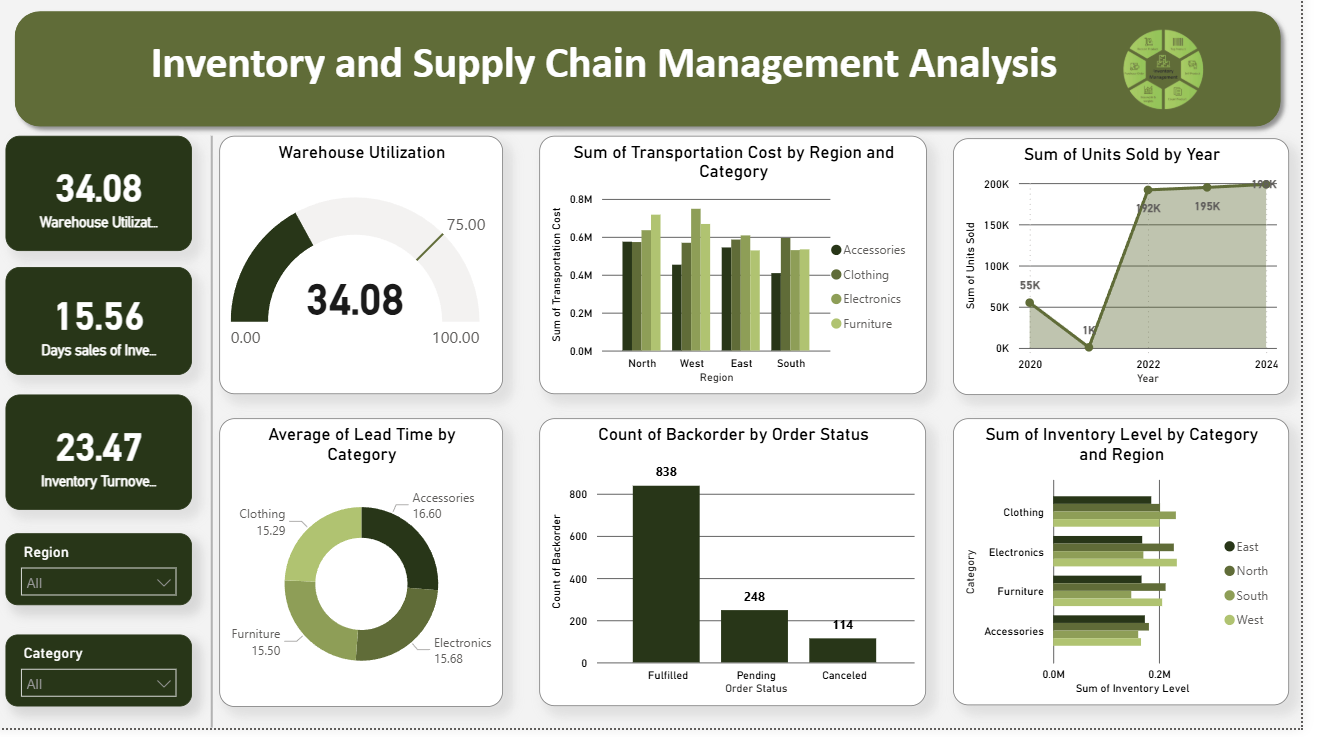

This screenshot's page, from the dashboard's own definition file:
{"tool":"powerbi","page":{"name":"Page 1","canvas":[1280,720],"ordinal":0},"visuals":[{"type":"shape","box":[11.8,10.3,1256.3,130.8],"z":0},{"type":"textbox","box":[133.7,38.2,928.7,74.9],"z":1000},{"type":"image","box":[1049.1,25,191,102.9],"z":2000},{"type":"shape","box":[207.2,141.1,14.7,578.9],"z":3000},{"type":"card","fields":{"Values":["Inventory and Supply Chain Dataset.Warehouse Utilization"]},"box":[11.8,141.1,182.2,113.1],"z":4000},{"type":"card","fields":{"Values":["Inventory and Supply Chain Dataset.Days sales of Inventory"]},"box":[11.8,268.9,182.2,105.8],"z":5000},{"type":"card","fields":{"Values":["Inventory and Supply Chain Dataset.Inventory Turnover Ratio"]},"box":[11.8,393.8,182.2,113.1],"z":6000},{"type":"slicer","fields":{"Values":["Inventory and Supply Chain Dataset.Region"]},"box":[11.8,529,182.2,70.5],"z":7000},{"type":"slicer","fields":{"Values":["Inventory and Supply Chain Dataset.Category"]},"box":[11.8,628.9,182.2,70.5],"z":8000},{"type":"gauge","fields":{"Y":["Inventory and Supply Chain Dataset.Warehouse Utilization"]},"box":[221.9,141.1,277.7,252.7],"z":9000},{"type":"clusteredColumnChart","fields":{"Y":["Sum(Inventory and Supply Chain Dataset.Transportation Cost)"],"Category":["Inventory and Supply Chain Dataset.Region"],"Series":["Inventory and Supply Chain Dataset.Category"]},"box":[534.9,141.1,379.1,252.7],"z":10000},{"type":"lineChart","fields":{"Y":["Sum(Inventory and Supply Chain Dataset.Units Sold)"],"Category":["Inventory and Supply Chain Dataset.Date.Variation.Date Hierarchy.Year"]},"box":[938.9,142.5,329.1,251.3],"z":11000},{"type":"donutChart","fields":{"Y":["Avg(Inventory and Supply Chain Dataset.Lead Time)"],"Category":["Inventory and Supply Chain Dataset.Category"]},"box":[221.9,417.3,277.7,282.1],"z":12000},{"type":"columnChart","fields":{"Y":["CountNonNull(Inventory and Supply Chain Dataset.Backorder)"],"Category":["Inventory and Supply Chain Dataset.Order Status"]},"box":[534.3,417.1,378.6,281.4],"z":13000},{"type":"clusteredBarChart","fields":{"Y":["Sum(Inventory and Supply Chain Dataset.Inventory Level)"],"Category":["Inventory and Supply Chain Dataset.Category"],"Series":["Inventory and Supply Chain Dataset.Region"]},"box":[939,417,329,281],"z":14000}]}

Visuals, with their boxes in screenshot pixels (x1, y1, x2, y2), scaled from the page's 1280x720 canvas onto the 1318x737 screenshot:
shape: 12 11 1306 144
textbox: 138 39 1094 116
image: 1080 26 1277 131
shape: 213 144 228 736
card - Inventory and Supply Chain Dataset.Warehouse Utilization: 12 144 200 260
card - Inventory and Supply Chain Dataset.Days sales of Inventory: 12 275 200 384
card - Inventory and Supply Chain Dataset.Inventory Turnover Ratio: 12 403 200 519
slicer - Inventory and Supply Chain Dataset.Region: 12 541 200 614
slicer - Inventory and Supply Chain Dataset.Category: 12 644 200 716
gauge - Inventory and Supply Chain Dataset.Warehouse Utilization: 228 144 514 403
clusteredColumnChart - Sum(Inventory and Supply Chain Dataset.Transportation Cost) x Inventory and Supply Chain Dataset.Region: 551 144 941 403
lineChart - Sum(Inventory and Supply Chain Dataset.Units Sold) x Inventory and Supply Chain Dataset.Date.Variation.Date Hierarchy.Year: 967 146 1306 403
donutChart - Avg(Inventory and Supply Chain Dataset.Lead Time) x Inventory and Supply Chain Dataset.Category: 228 427 514 716
columnChart - CountNonNull(Inventory and Supply Chain Dataset.Backorder) x Inventory and Supply Chain Dataset.Order Status: 550 427 940 715
clusteredBarChart - Sum(Inventory and Supply Chain Dataset.Inventory Level) x Inventory and Supply Chain Dataset.Category: 967 427 1306 714
